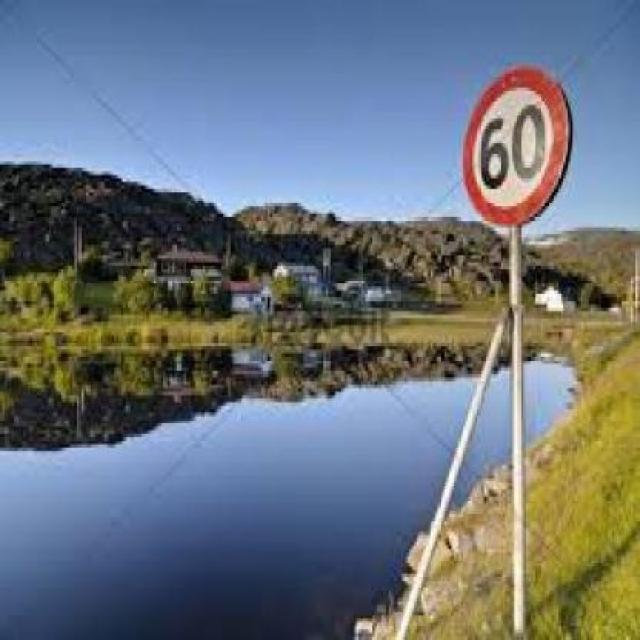forb_speed_over_60: (469, 69, 565, 220)
